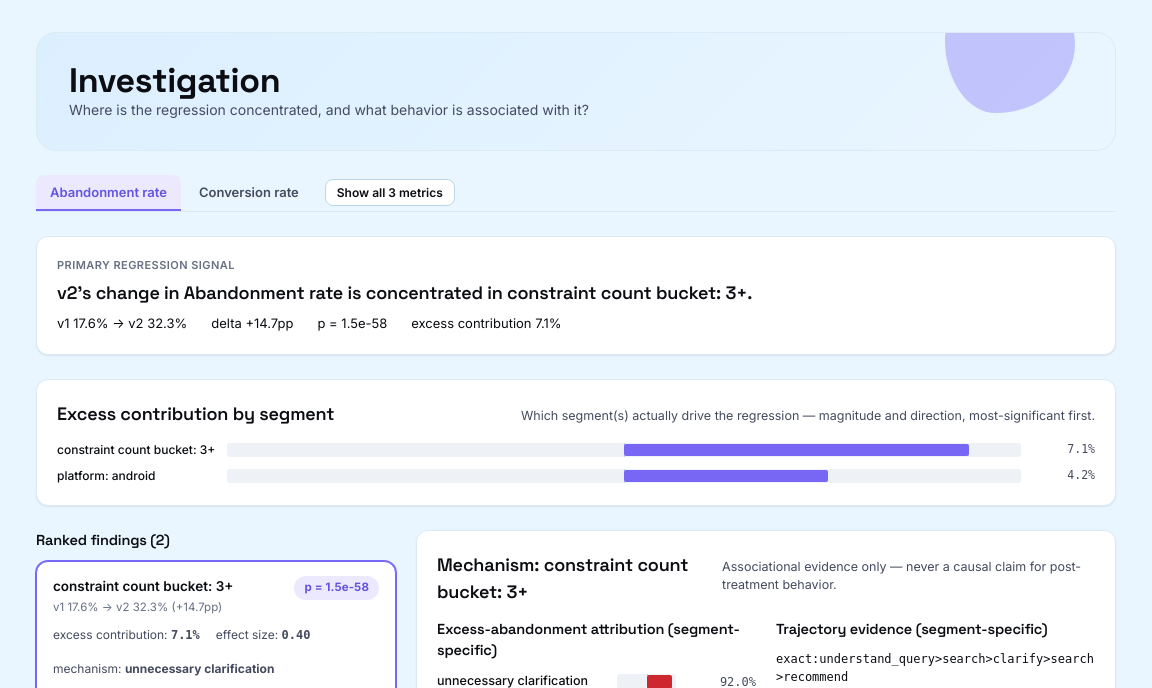
it: Investigation page › curates metric tabs to the primary metric and guardrail-watched metrics, not every inferential metric (Stage 17 task 2)
This screenshot has width=1152, height=688.
Expected: the heading "v2's change in Abandonment rate is concentrated in" is shown, [57,281,752,304]
Expected: the button "Abandonment rate" is shown, [36,175,181,211]
What coordinates should you click on to do the following:
click the button "Show all 3 metrics"
I would click on:
 (390, 193)
Its box is [325,179,455,206].
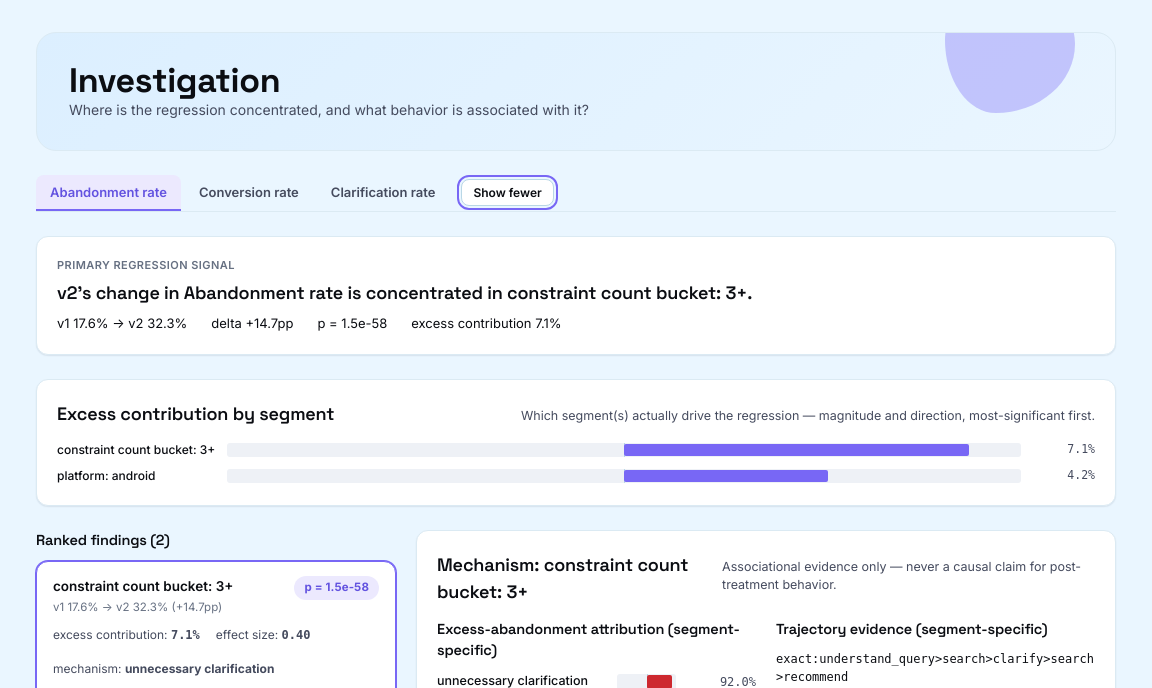
Expected: the button "Clarification rate" is shown, [317,175,449,211]
Expected: the button "Show fewer" is shown, [461,179,554,206]
